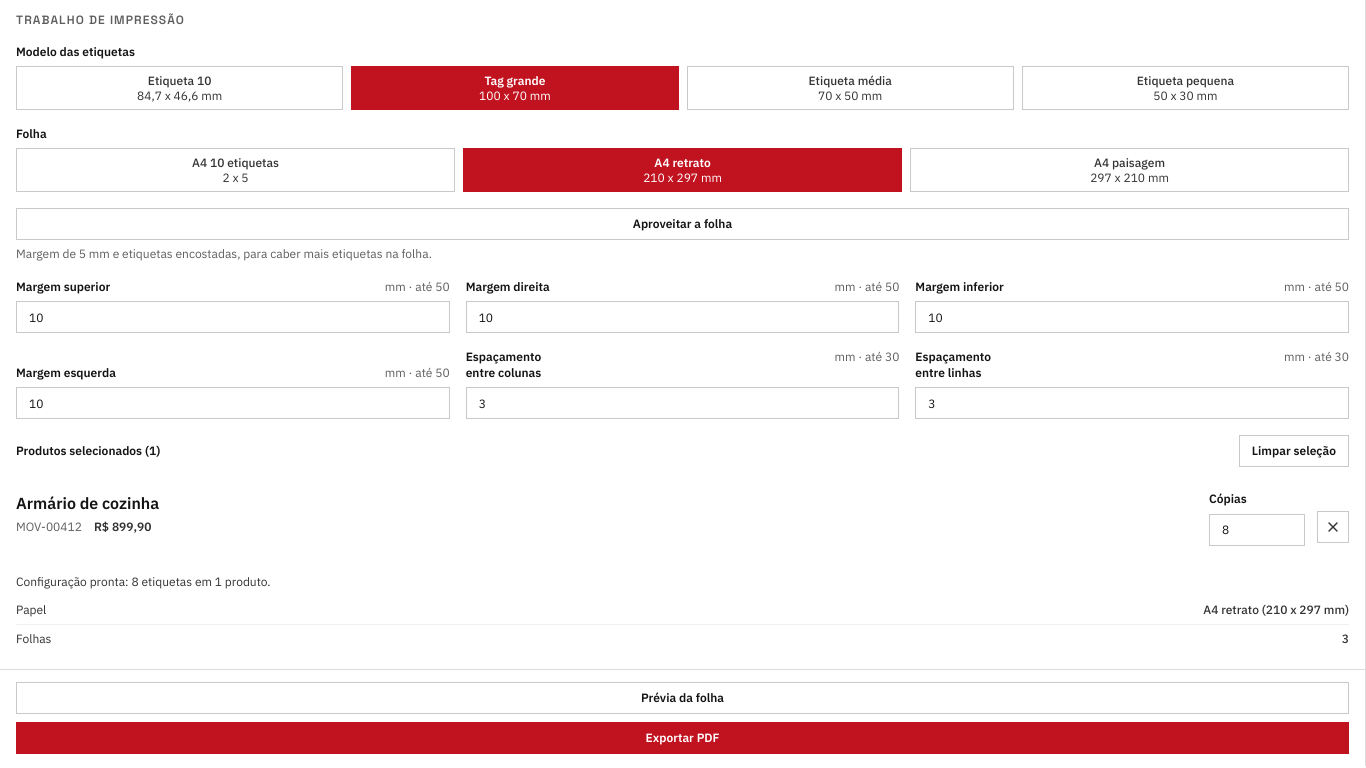
Test: aproveitar a folha › encosta as etiquetas com margem de 5 mm e cabe mais em cada folha
Step 1. Click the button "Aproveitar a folha" → (682, 224), box [16,208,1349,240]
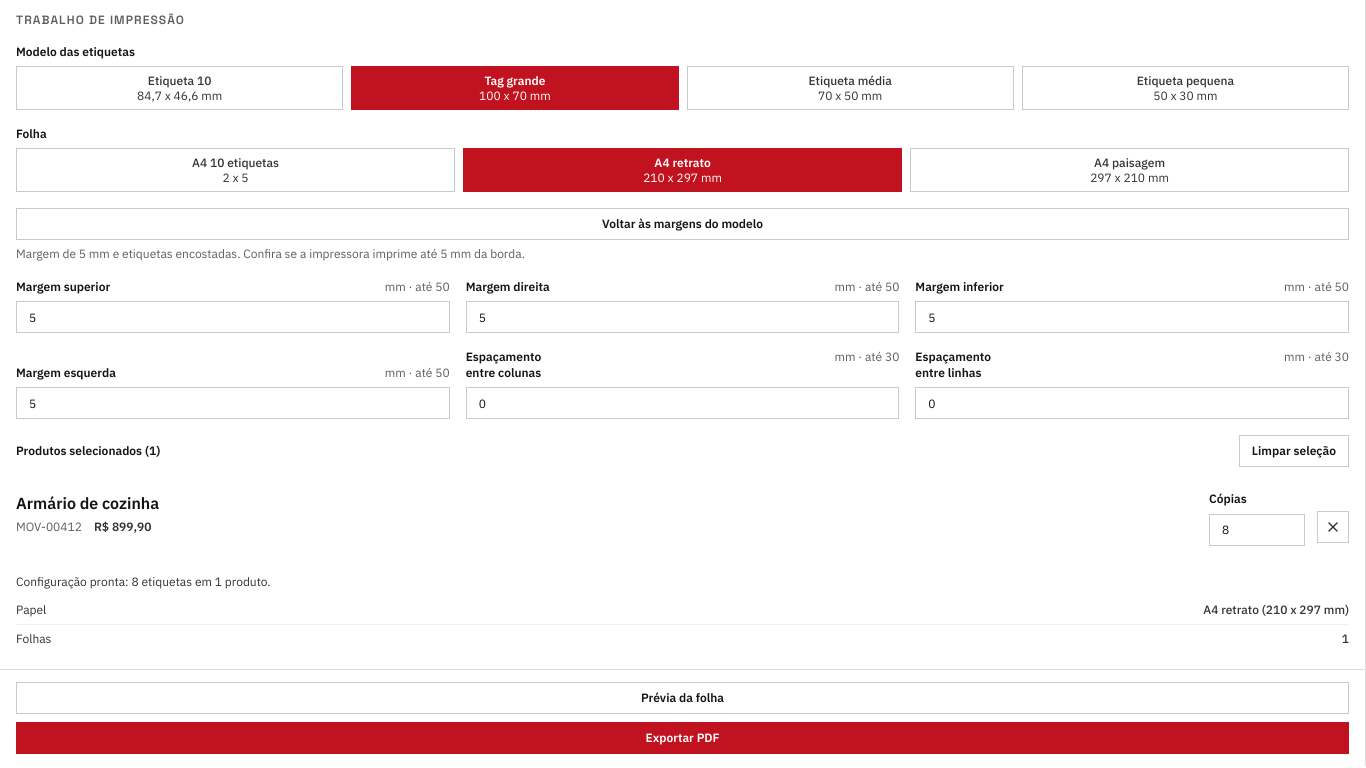
expect the field with id "folha-marginTopMm" holds "5": met, box [16,301,450,333]
expect the field with id "folha-columnGapMm" holds "0": met, box [466,387,899,419]
